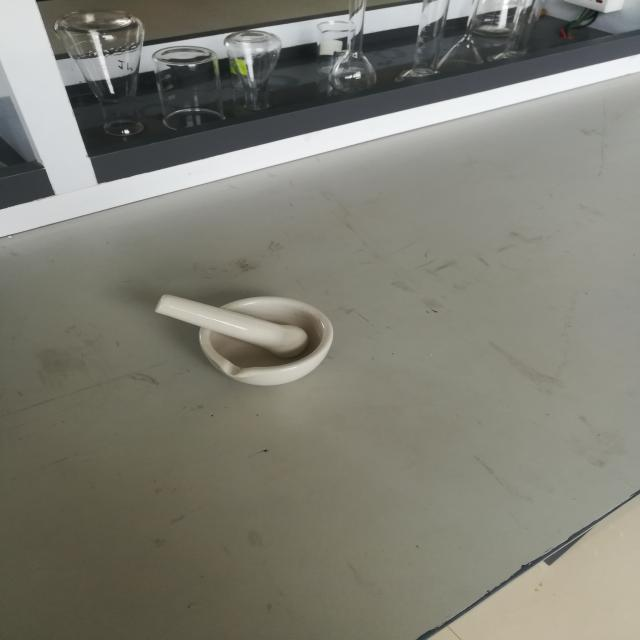Porcelain_Mortar Pestle: (117, 252, 378, 405)
